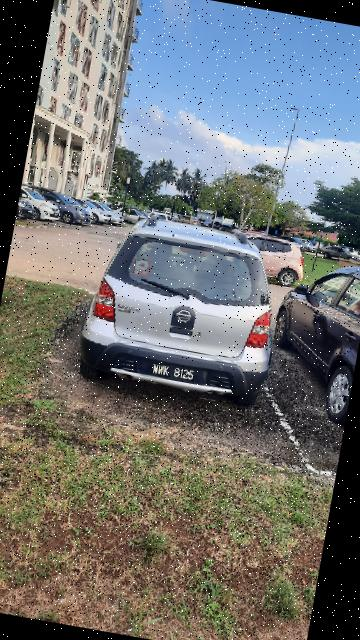License_Plate: (134, 353, 218, 394)
car: (73, 214, 290, 413), (263, 254, 360, 421)
